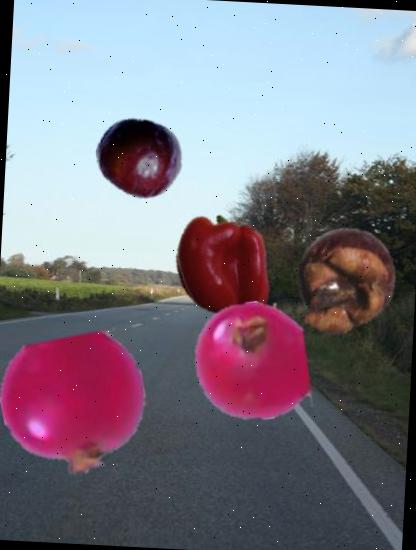Mangostan: (286, 222, 405, 341)
Pepper: (170, 214, 280, 324)
Plum: (94, 112, 185, 204)
Redcurrant: (0, 329, 150, 481), (188, 298, 314, 424)
